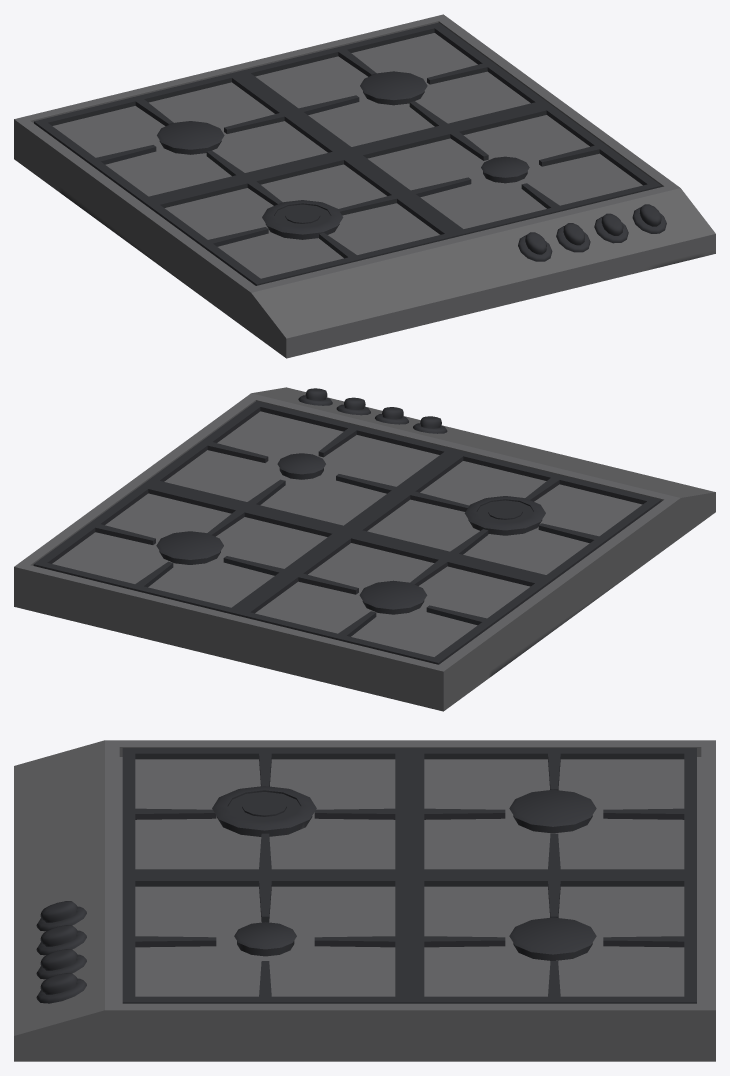
File: stove.fbx
3 views of the same model, one above another, from view 1: azimuth 30°, elevation 25°; view 2: azimuth 150°, elevation 25°; view 3: azimuth 270°, elevation 25° (orthographic). The views are drawn at different scales.
Visible parts, largest first — view 1: Stove; view 2: Stove; view 3: Stove.
Part boxes in pixels (<box>): Stove: <box>14,14,715,358</box>; Stove: <box>14,387,715,711</box>; Stove: <box>14,740,715,1061</box>.
Size of the model in its own units: 112 by 11.08 by 124.
Materials: 1 (1 with a texture image).
